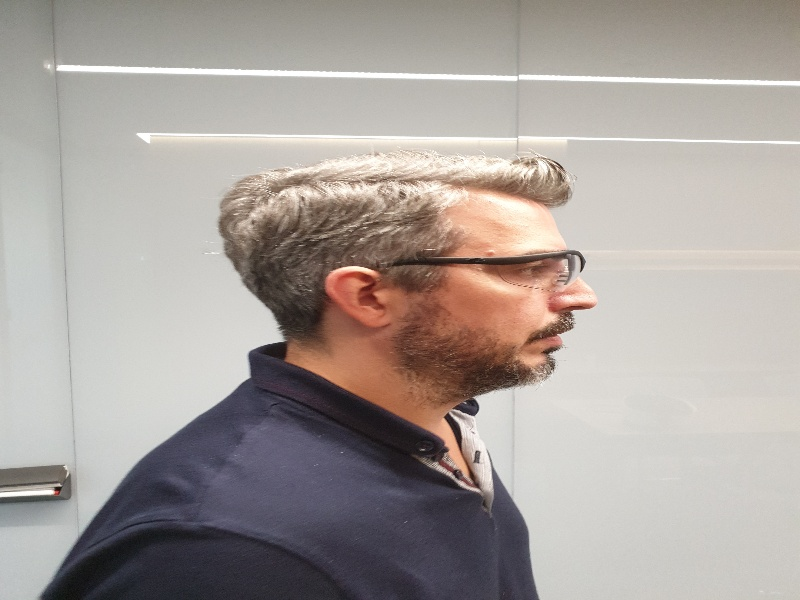Gozluk: (382, 249, 589, 290)
